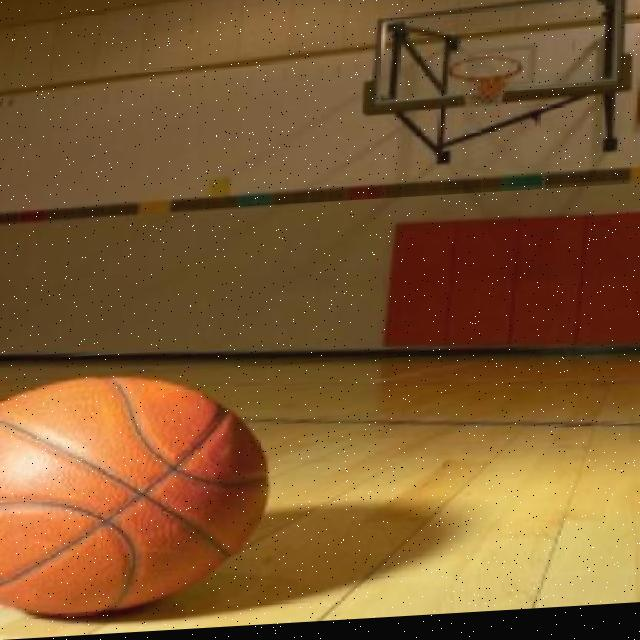basketball: (0, 353, 277, 640)
hoop: (446, 52, 526, 124)
